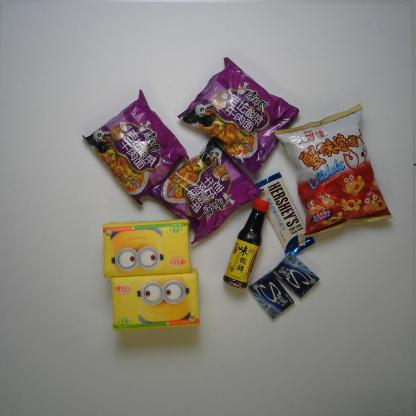Chocolate: (255, 170, 315, 258)
Gum: (272, 250, 322, 300), (247, 271, 295, 319)
Instant Noodles: (174, 55, 300, 175), (81, 86, 191, 209), (146, 136, 261, 246)
Puffed Food: (273, 102, 396, 238)
Seasoner: (223, 197, 271, 290)
Tissue: (109, 268, 202, 333), (101, 216, 192, 279)
